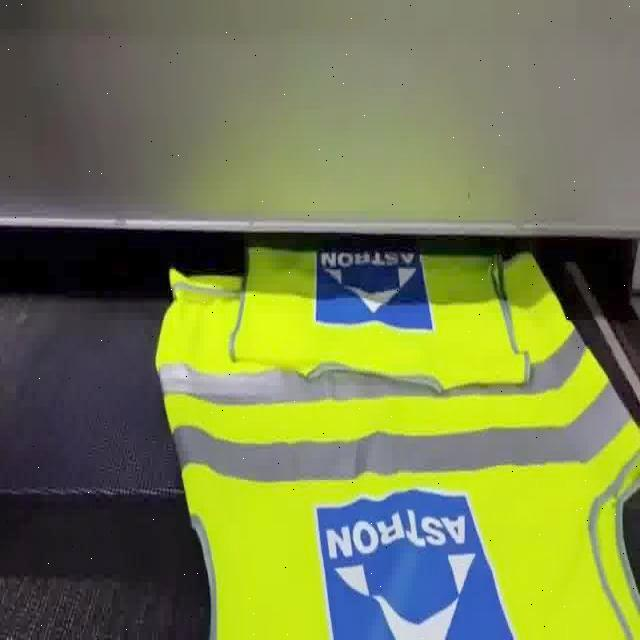Vest: (155, 254, 640, 640)
